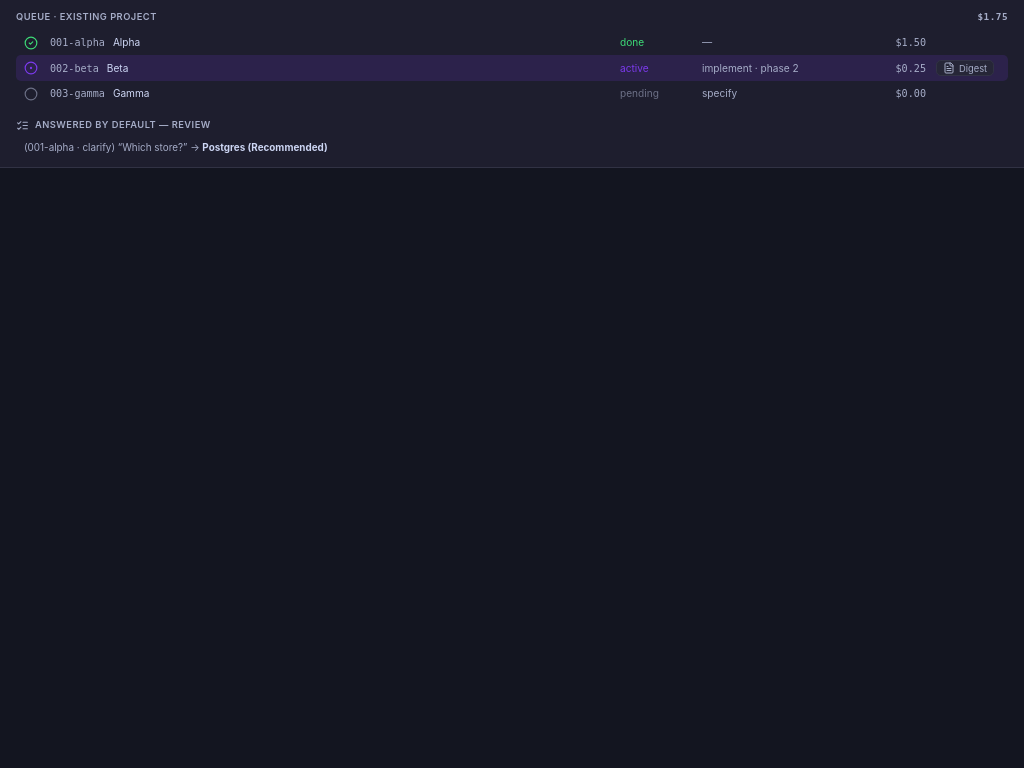
Test: QueuePanel › a Digest button only on an entry with a digest; it opens the digest view, which closes
Click the button with test id "queue-row-digest" at (965, 68), box left=936, top=60, right=994, bottom=76
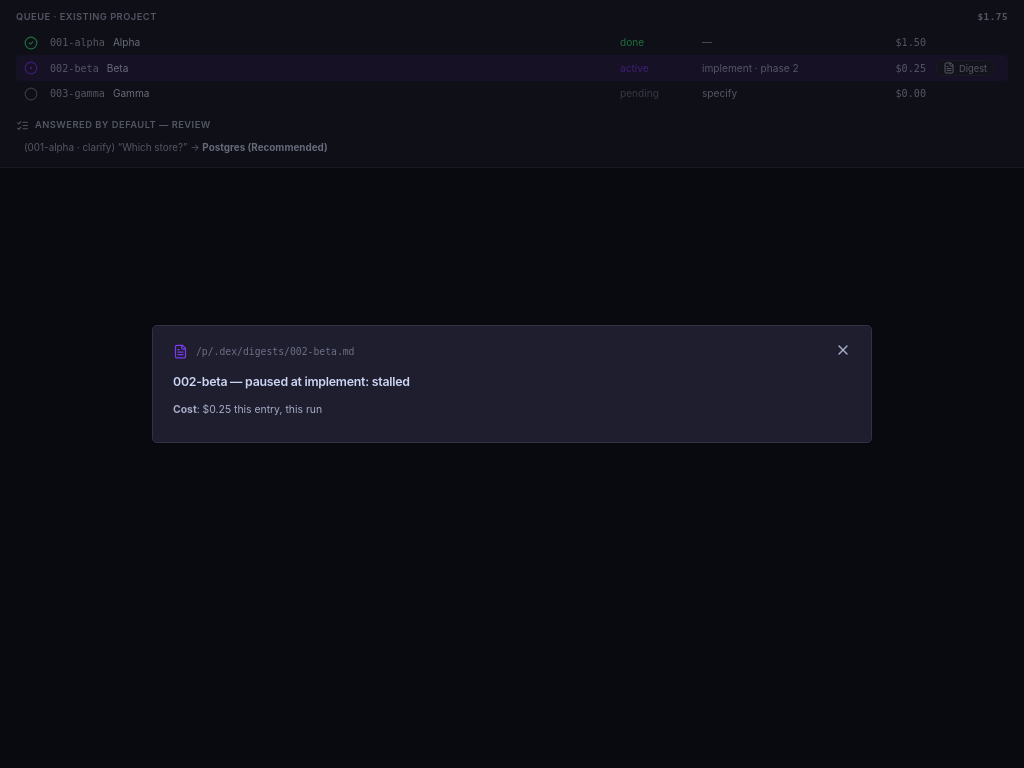
Now the heading "002-beta — paused at implement: stalled" is shown, box left=173, top=374, right=410, bottom=389
Now the text "/p/.dex/digests/002-beta.md" is shown, box left=196, top=346, right=354, bottom=357
Click the button with test id "digest-close" at (843, 352), box left=835, top=342, right=851, bottom=361
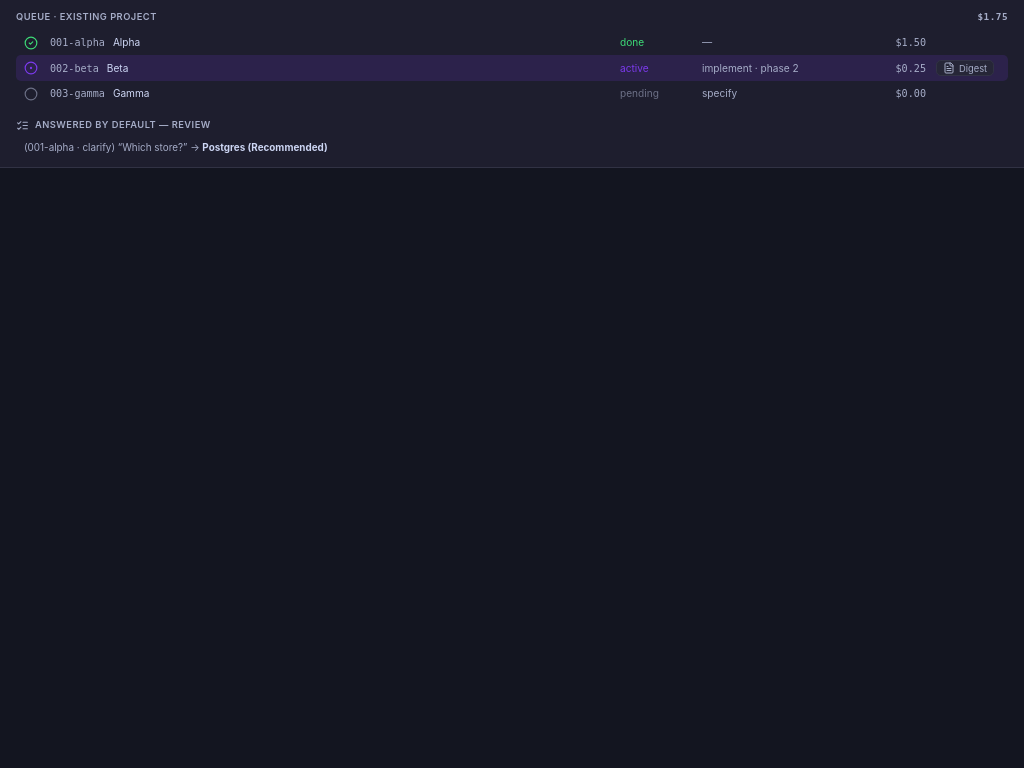
Now the dialog with test id "digest-view" is gone
